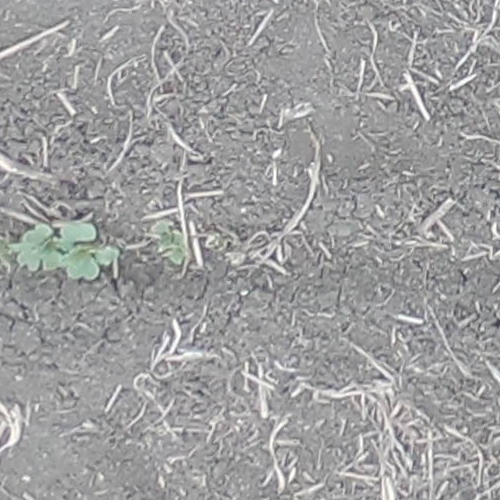plant: (18, 220, 121, 281), (155, 223, 184, 268)
